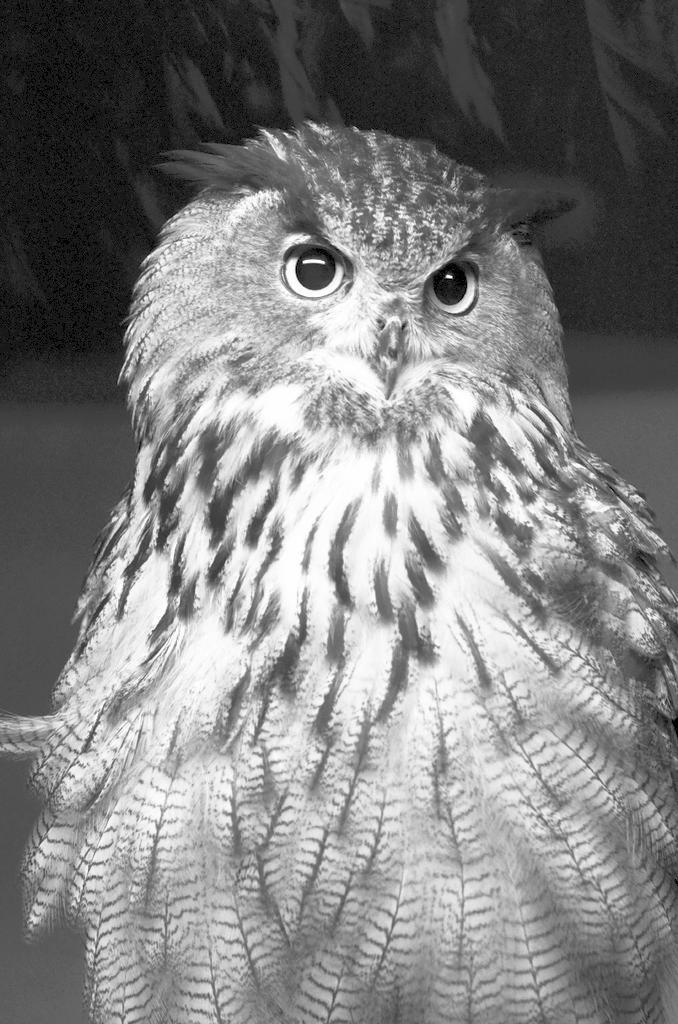Owl: (0, 118, 677, 1024)
